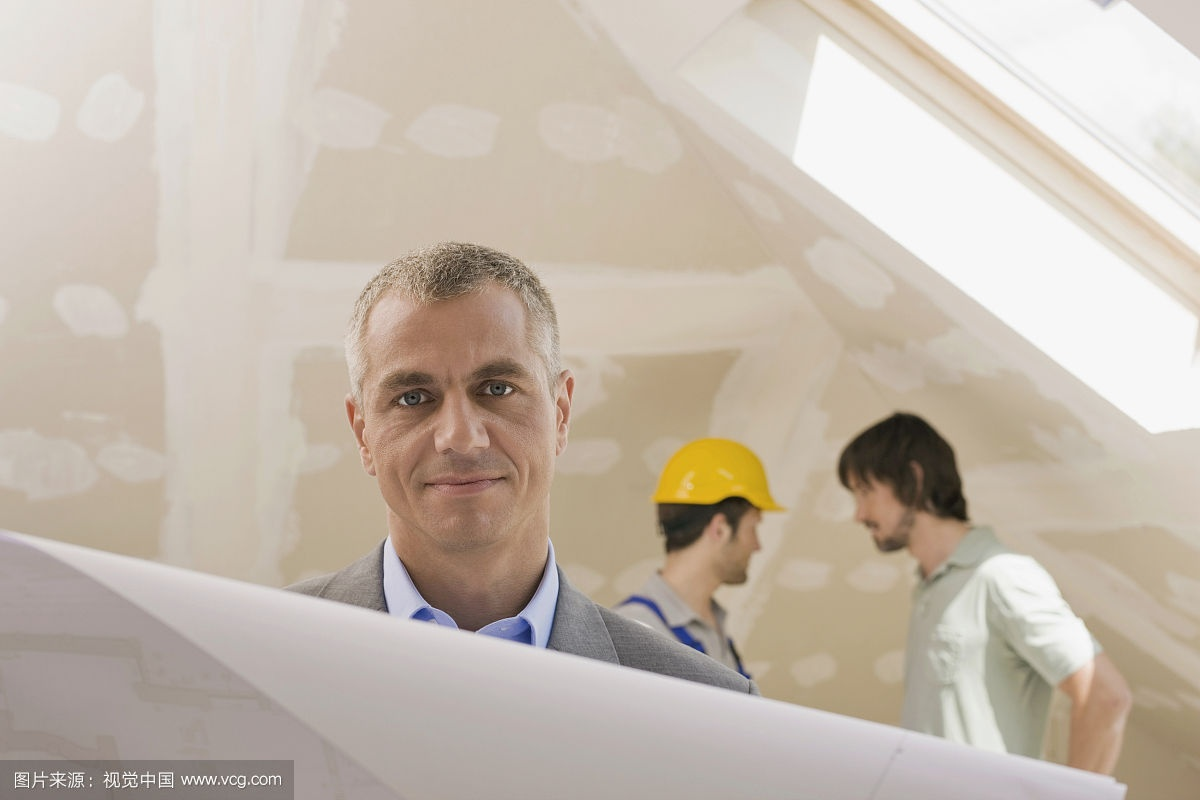none: (341, 237, 581, 566), (831, 404, 968, 565)
yellow: (649, 436, 778, 603)
